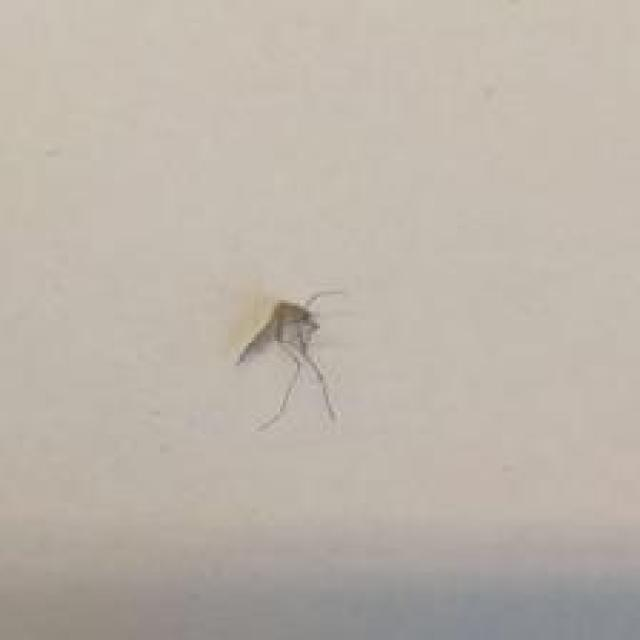Culex: (234, 287, 346, 433)
